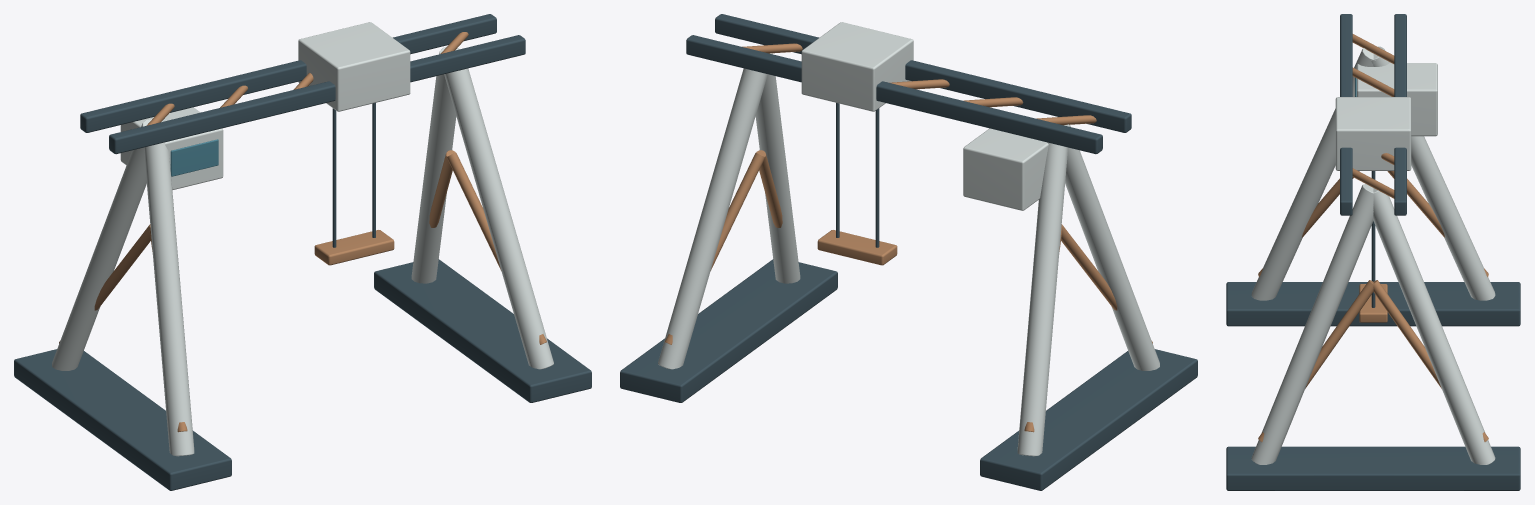
Rendered from GroundCrane115.fbx.
3 views of the same model, side by side, from view 1: azimuth 30°, elevation 25°; view 2: azimuth 150°, elevation 25°; view 3: azimuth 270°, elevation 25° (orthographic). The views are drawn at different scales.
Visible parts, largest first — view 1: Gantry rail foundation, Gantry rail foundation.001, Braced A-frame, Braced A-frame.002, Hoist rail, Hoist service cage, Hoist rail.001, Braced A-frame.001, Braced A-frame.003, Operators cabin, Hook spreader, Cabin glass (+4 smaller); view 2: Gantry rail foundation, Gantry rail foundation.001, Braced A-frame.003, Braced A-frame.001, Hoist rail.001, Hoist service cage, Hoist rail, Braced A-frame, Operators cabin, Braced A-frame.002, Hook spreader, Diagonal truss.003 (+3 smaller); view 3: Gantry rail foundation.001, Gantry rail foundation, Braced A-frame.002, Braced A-frame.003, Hoist service cage, Braced A-frame, Braced A-frame.001, Operators cabin, Hoist rail, Hoist rail.001, Diagonal truss.002, Diagonal truss.003 (+7 smaller).
Part boxes in pixels (x1,y1,x2,y2): Gantry rail foundation: (14, 349, 231, 490); Gantry rail foundation.001: (374, 259, 591, 402); Braced A-frame: (144, 142, 194, 456); Braced A-frame.002: (444, 68, 553, 369); Hoist rail: (109, 35, 525, 154); Hoist service cage: (298, 22, 410, 111); Hoist rail.001: (80, 14, 496, 132); Braced A-frame.001: (52, 119, 151, 370); Braced A-frame.003: (411, 46, 459, 283); Operators cabin: (120, 107, 223, 190); Hook spreader: (314, 230, 394, 265); Cabin glass: (170, 139, 218, 176); Gantry rail foundation: (980, 349, 1197, 490); Gantry rail foundation.001: (620, 259, 837, 402); Braced A-frame.003: (658, 68, 767, 369); Braced A-frame.001: (1017, 142, 1067, 456); Hoist rail.001: (686, 35, 1102, 154); Hoist service cage: (801, 22, 913, 111); Hoist rail: (715, 14, 1131, 132); Braced A-frame: (1064, 124, 1159, 370); Operators cabin: (963, 128, 1048, 210); Braced A-frame.002: (755, 53, 800, 283); Hook spreader: (817, 230, 897, 265); Diagonal truss.003: (665, 152, 764, 344); Gantry rail foundation.001: (1226, 446, 1520, 490); Gantry rail foundation: (1226, 282, 1520, 326); Braced A-frame.002: (1251, 184, 1373, 464); Braced A-frame.003: (1373, 188, 1495, 464); Hoist service cage: (1335, 97, 1411, 170); Braced A-frame: (1251, 48, 1375, 300); Braced A-frame.001: (1371, 46, 1495, 300); Operators cabin: (1356, 63, 1437, 136); Hoist rail: (1340, 14, 1352, 215); Hoist rail.001: (1394, 14, 1406, 215); Diagonal truss.002: (1258, 280, 1373, 441); Diagonal truss.003: (1373, 280, 1488, 441).
Size of the model in its own units: 575 by 424 by 370.
